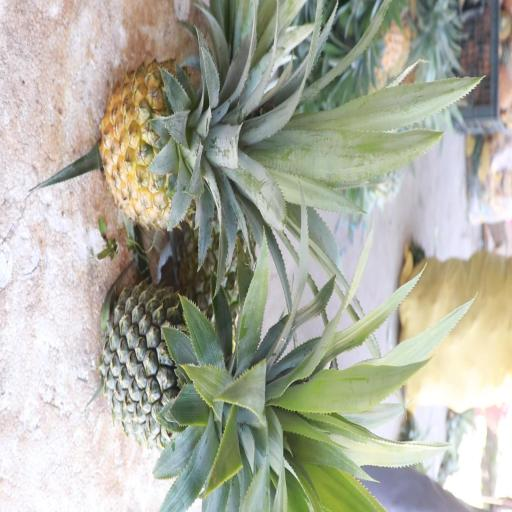Pineapple - v8 v1: (96, 50, 302, 242)
